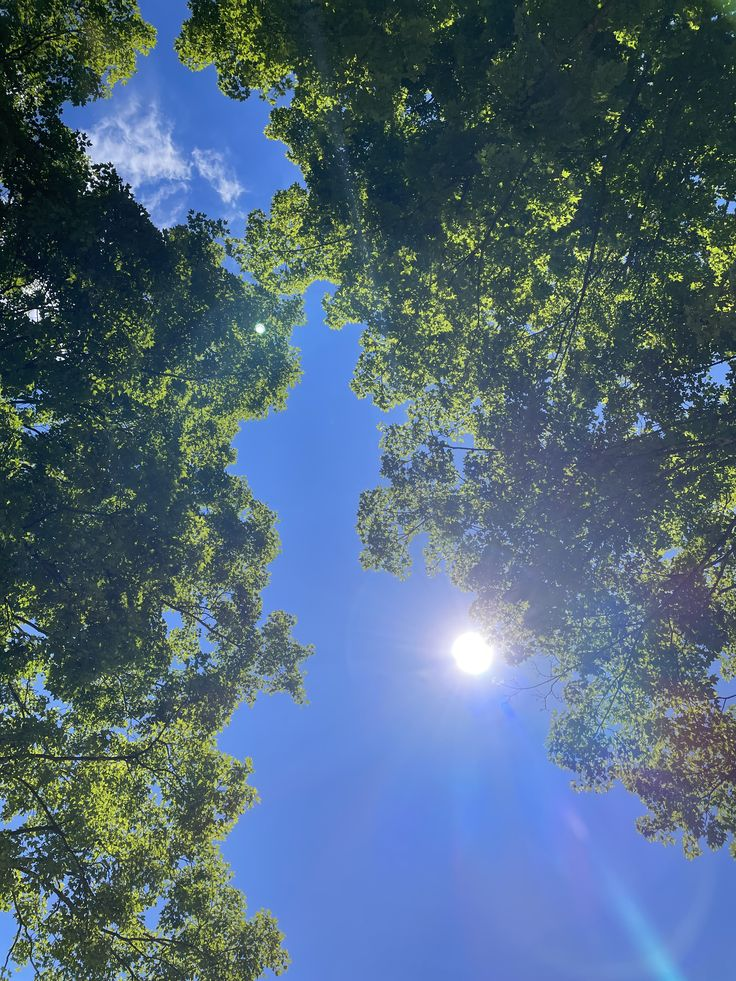sun: (422, 603, 515, 689)
